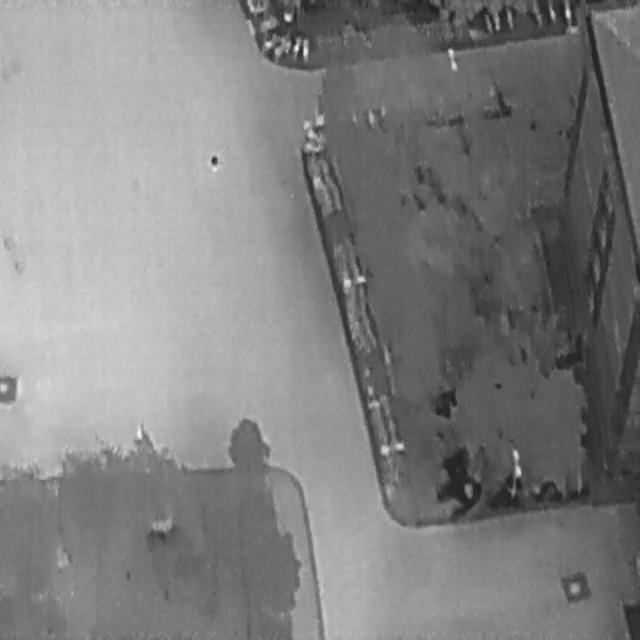Bicycle: (271, 29, 288, 61), (543, 0, 559, 28), (288, 31, 302, 59), (260, 32, 279, 52), (503, 4, 515, 30), (301, 36, 310, 60), (564, 1, 572, 26), (493, 11, 500, 31)
Person: (210, 152, 219, 170)
